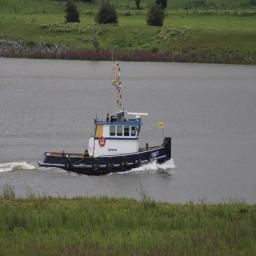tugboat: (38, 107, 174, 181)
